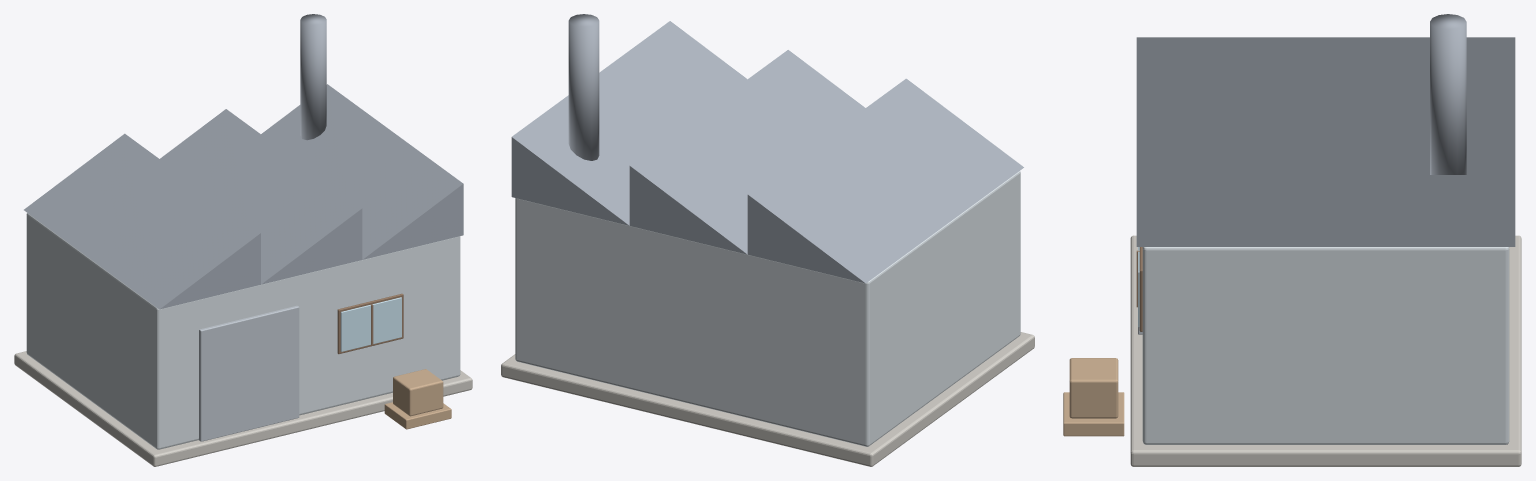
File: workshop.glb
3 renders of one model, left to right at view 1: azimuth 30°, elevation 25°; view 2: azimuth 150°, elevation 25°; view 3: azimuth 270°, elevation 25°, orthographic. The views are drawn at different scales.
Visible parts, largest first — view 1: workshop; view 2: workshop; view 3: workshop.
Boxes of the visible parts, x1,y1,x2,y2 form: workshop: [14, 14, 472, 466]; workshop: [501, 14, 1034, 466]; workshop: [1063, 14, 1521, 466].
Bounding box in the file's own units: 8.4 × 7.5 × 7.5.
